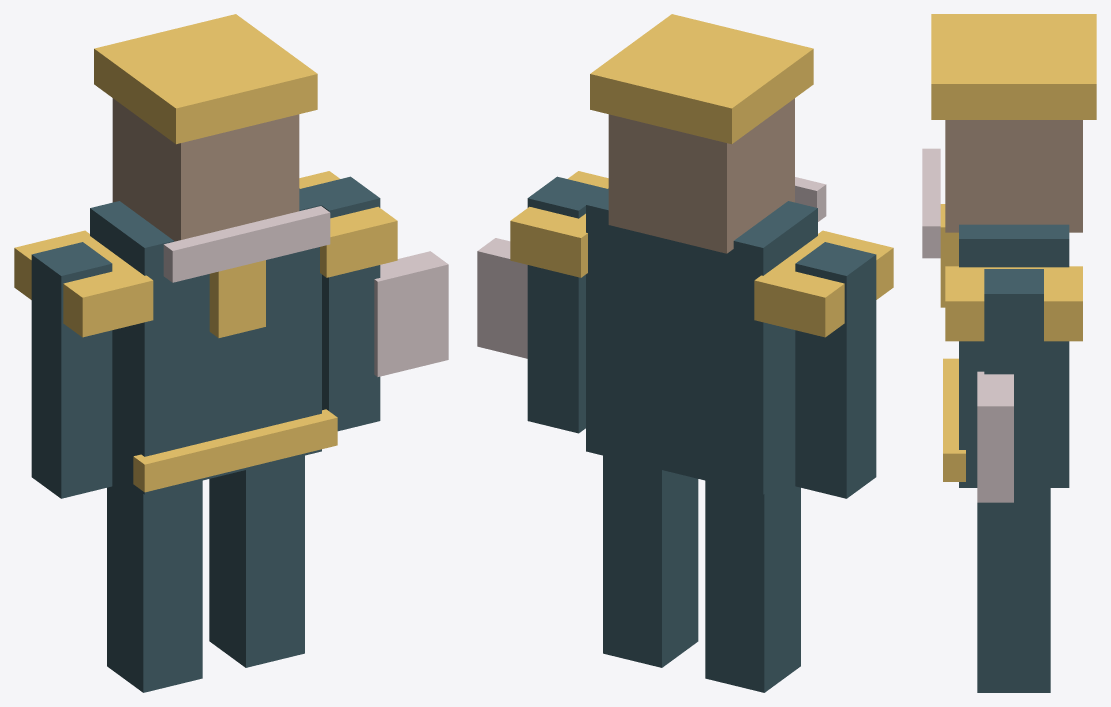
The model's file is 08_nyra_holloway_custodian_at.glb.
3 views of the same model, side by side, from view 1: azimuth 30°, elevation 25°; view 2: azimuth 150°, elevation 25°; view 3: azimuth 270°, elevation 25° (orthographic).
Parts seen in each view (by area): view 1: Nyra Holloway, Custodian at; view 2: Nyra Holloway, Custodian at; view 3: Nyra Holloway, Custodian at.
Part boxes in pixels (box(x1,y1,x2,y2)): Nyra Holloway, Custodian at: box(14, 14, 448, 692); Nyra Holloway, Custodian at: box(477, 14, 893, 692); Nyra Holloway, Custodian at: box(922, 14, 1096, 692).
Size of the model in its own units: 1.05 by 1.57 by 0.4096.
